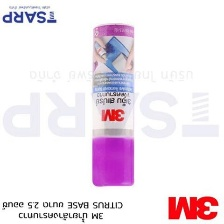aerosol_cans: (89, 20, 139, 190)
